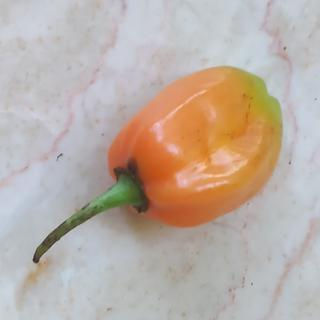Grade-A: (105, 57, 289, 227)
